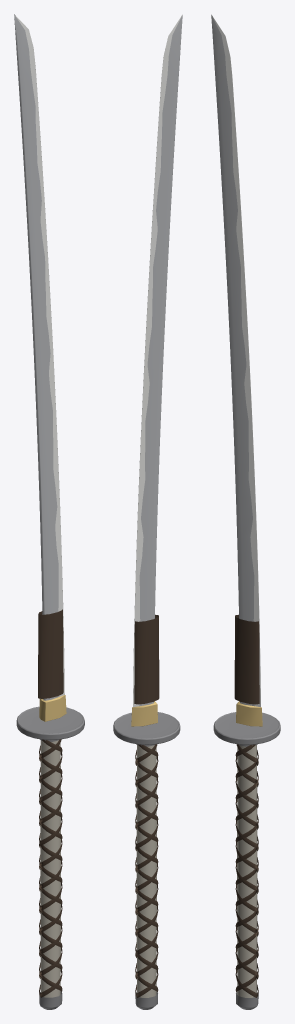
The model's file is gear_edo_nodachi.glb.
3 views of the same model, side by side, from view 1: azimuth 30°, elevation 25°; view 2: azimuth 210°, elevation 25°; view 3: azimuth 330°, elevation 25° (orthographic).
Parts seen in each view (by area): view 1: gear_edo_nodachi; view 2: gear_edo_nodachi; view 3: gear_edo_nodachi.
Boxes of the visible parts, bbox=[...] form: gear_edo_nodachi: bbox=[14, 14, 84, 1009]; gear_edo_nodachi: bbox=[113, 14, 182, 1009]; gear_edo_nodachi: bbox=[211, 14, 280, 1009].
Bounding box in the file's own units: 0.1075 × 1.55 × 0.096.
